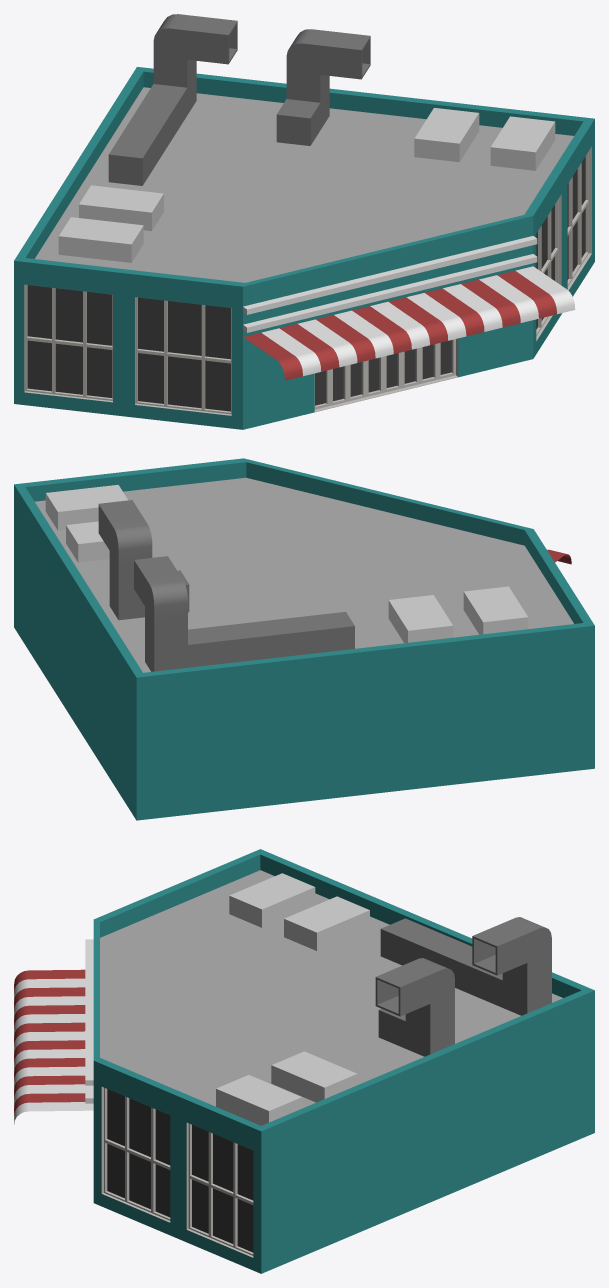
File: 17 Restaurants.fbx
3 views of the same model, one above another, from view 1: azimuth 30°, elevation 25°; view 2: azimuth 150°, elevation 25°; view 3: azimuth 270°, elevation 25° (orthographic).
Parts seen in each view (by area): view 1: Restaurants; view 2: Restaurants; view 3: Restaurants.
Part boxes in pixels (bbox=[...]): Restaurants: bbox=[14, 14, 594, 429]; Restaurants: bbox=[14, 458, 594, 820]; Restaurants: bbox=[14, 849, 594, 1273].
Bounding box in the file's own units: 246 × 85.93 × 214.
